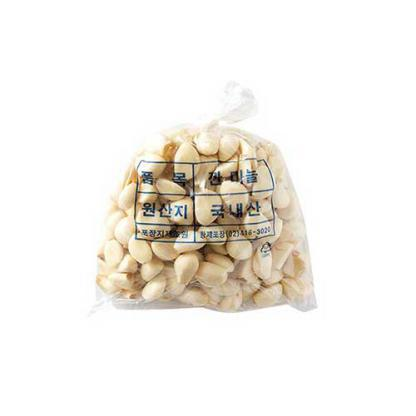garlic: (169, 142, 200, 181), (249, 243, 278, 284), (197, 256, 229, 286), (194, 188, 219, 226), (252, 282, 290, 306), (106, 210, 134, 240), (210, 286, 246, 309), (281, 273, 309, 300), (128, 230, 152, 260), (219, 136, 242, 164), (180, 290, 208, 313), (197, 134, 226, 156), (175, 252, 194, 283), (142, 279, 166, 303), (143, 156, 164, 180), (107, 236, 123, 266), (286, 251, 308, 272), (112, 270, 134, 289), (116, 184, 134, 206), (140, 260, 164, 276)
